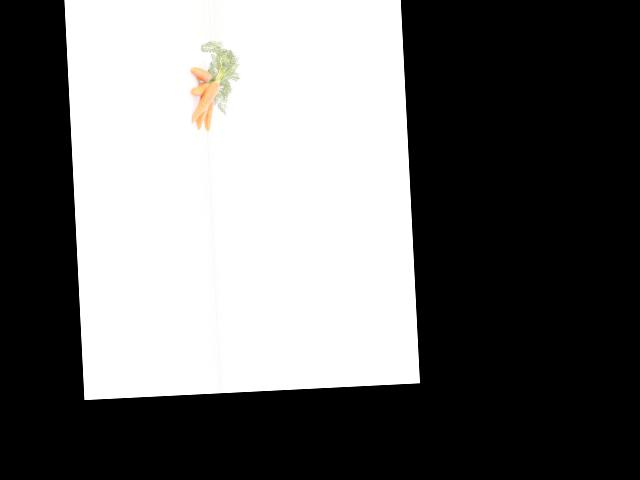carrot: (187, 75, 224, 122)
